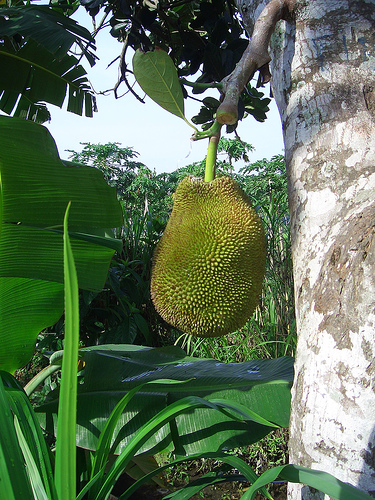jackfruit: (151, 178, 267, 335)
